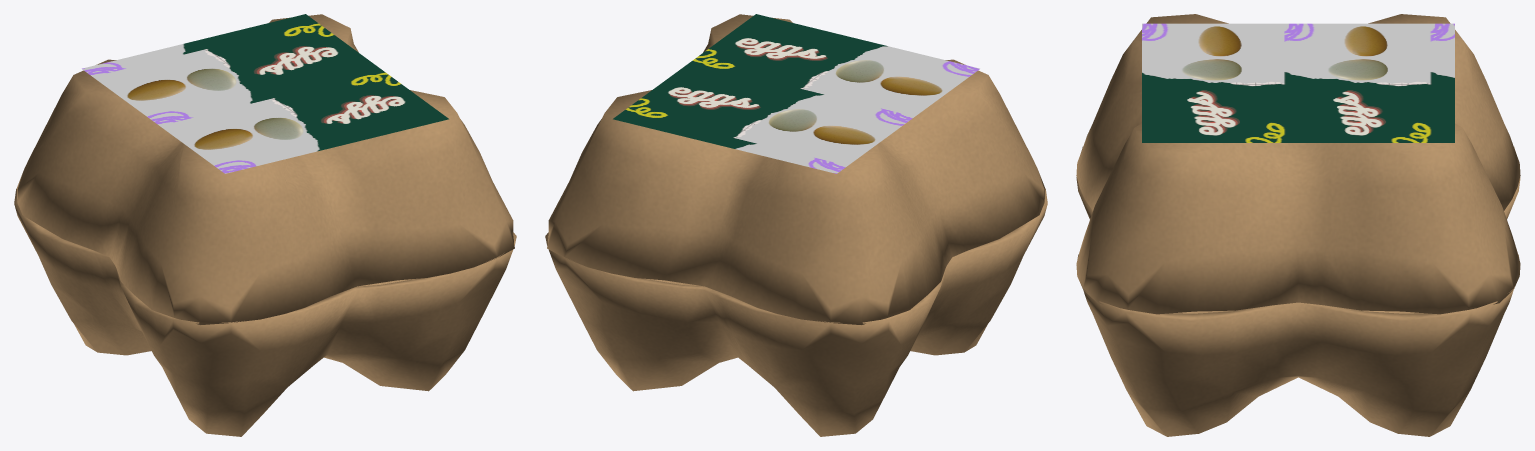
The model's file is eggpackage.glb.
3 renders of one model, left to right at view 1: azimuth 30°, elevation 25°; view 2: azimuth 150°, elevation 25°; view 3: azimuth 270°, elevation 25°, orthographic. The views are drawn at different scales.
Parts seen in each view (by area): view 1: eggpackage.001, eggpackage; view 2: eggpackage.001, eggpackage; view 3: eggpackage.001, eggpackage.
Boxes of the visible parts, x1,y1,x2,y2 form: eggpackage.001: [16, 14, 514, 324]; eggpackage: [14, 189, 516, 436]; eggpackage.001: [547, 14, 1045, 324]; eggpackage: [545, 189, 1047, 436]; eggpackage.001: [1076, 14, 1520, 314]; eggpackage: [1076, 147, 1520, 436].
Size of the model in its own units: 0.2468 by 0.177 by 0.2431.
Materials: 1 (1 with a texture image).
